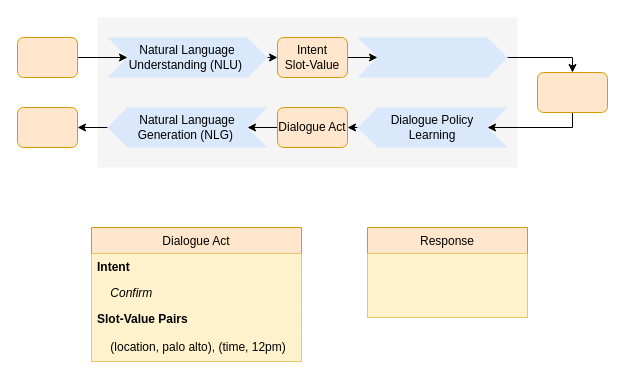
Image size: 625x381. Some labels were removed from this diagram. Each missing label, with the centre of its shape:
"Dialogue State Tracking (DST)" belongs at [432,57].
"Dialogue Status" belongs at [572,92].
"Please confirm to book the table at 12 pm in palo alto." belongs at [447,285].
"System Output" belongs at [47,127].
"User Input" belongs at [47,57].
